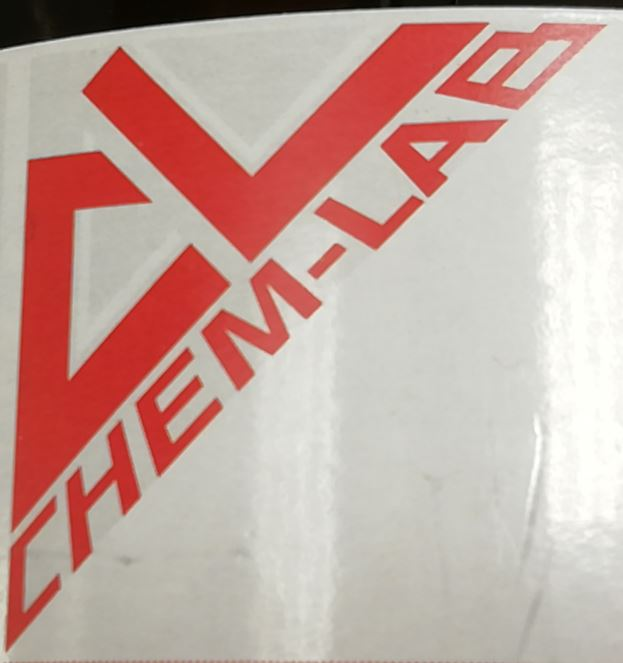ChemLab: (2, 18, 611, 653)
